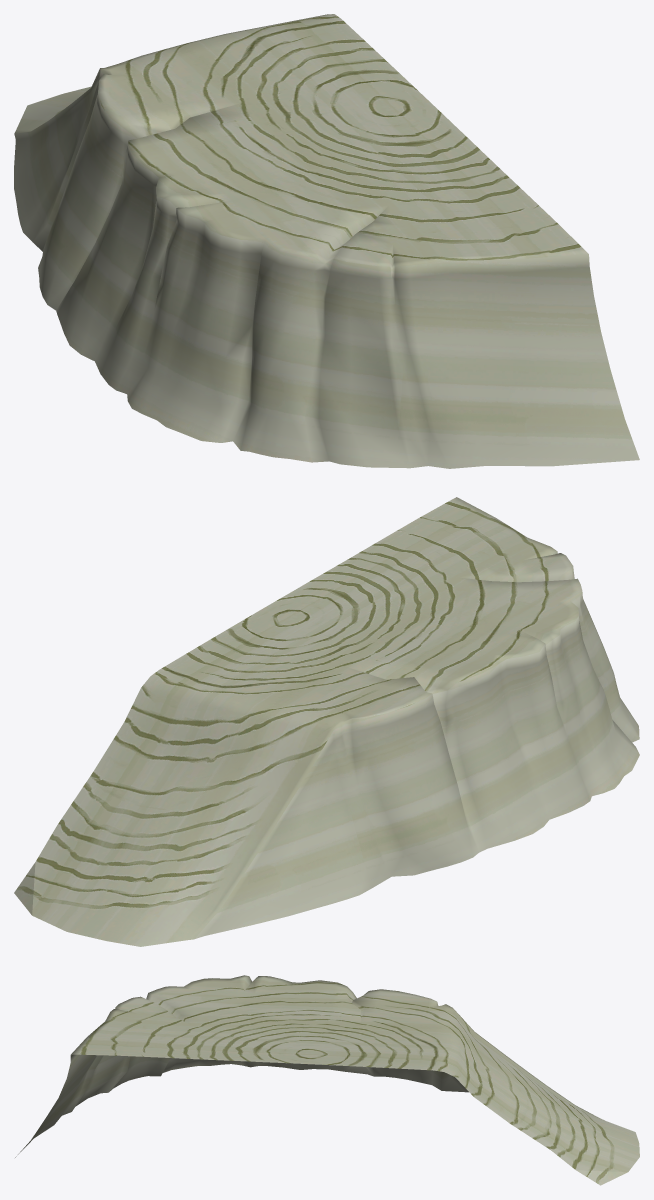
File: SM_ENV_KNFRST_Cliff_H.FBX
The picture shows the model from 3 angles, top to bottom: view 1: azimuth 30°, elevation 25°; view 2: azimuth 150°, elevation 25°; view 3: azimuth 270°, elevation 25°; orthographic projection. The views are drawn at different scales.
Parts seen in each view (by area): view 1: SM_ENV_KNFRST_Cliff_H; view 2: SM_ENV_KNFRST_Cliff_H; view 3: SM_ENV_KNFRST_Cliff_H.
Boxes of the visible parts, left/top/right/bottom form: SM_ENV_KNFRST_Cliff_H: left=14, top=14, right=639, bottom=468; SM_ENV_KNFRST_Cliff_H: left=14, top=497, right=639, bottom=946; SM_ENV_KNFRST_Cliff_H: left=15, top=975, right=639, bottom=1185.
Bounding box in the file's own units: 1108 × 458 × 2419.
